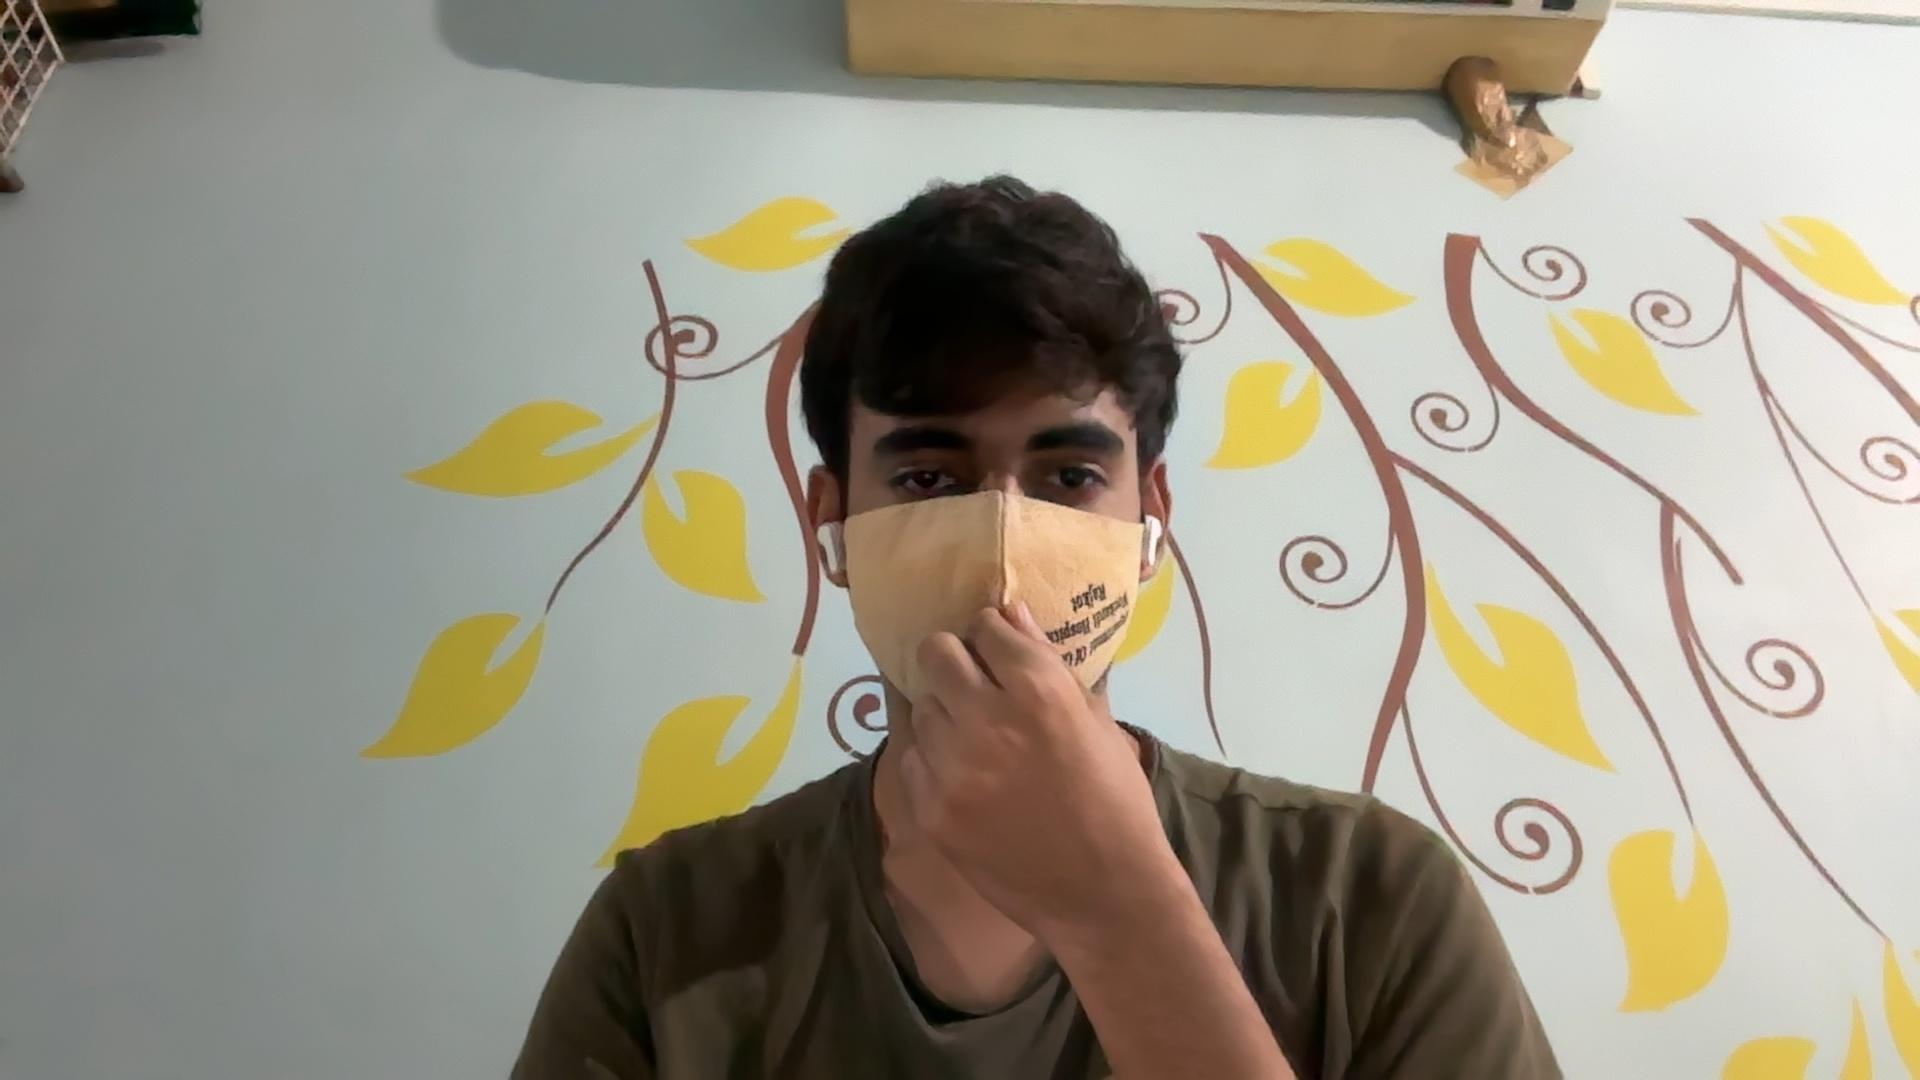Mask: (832, 497, 1157, 713)
